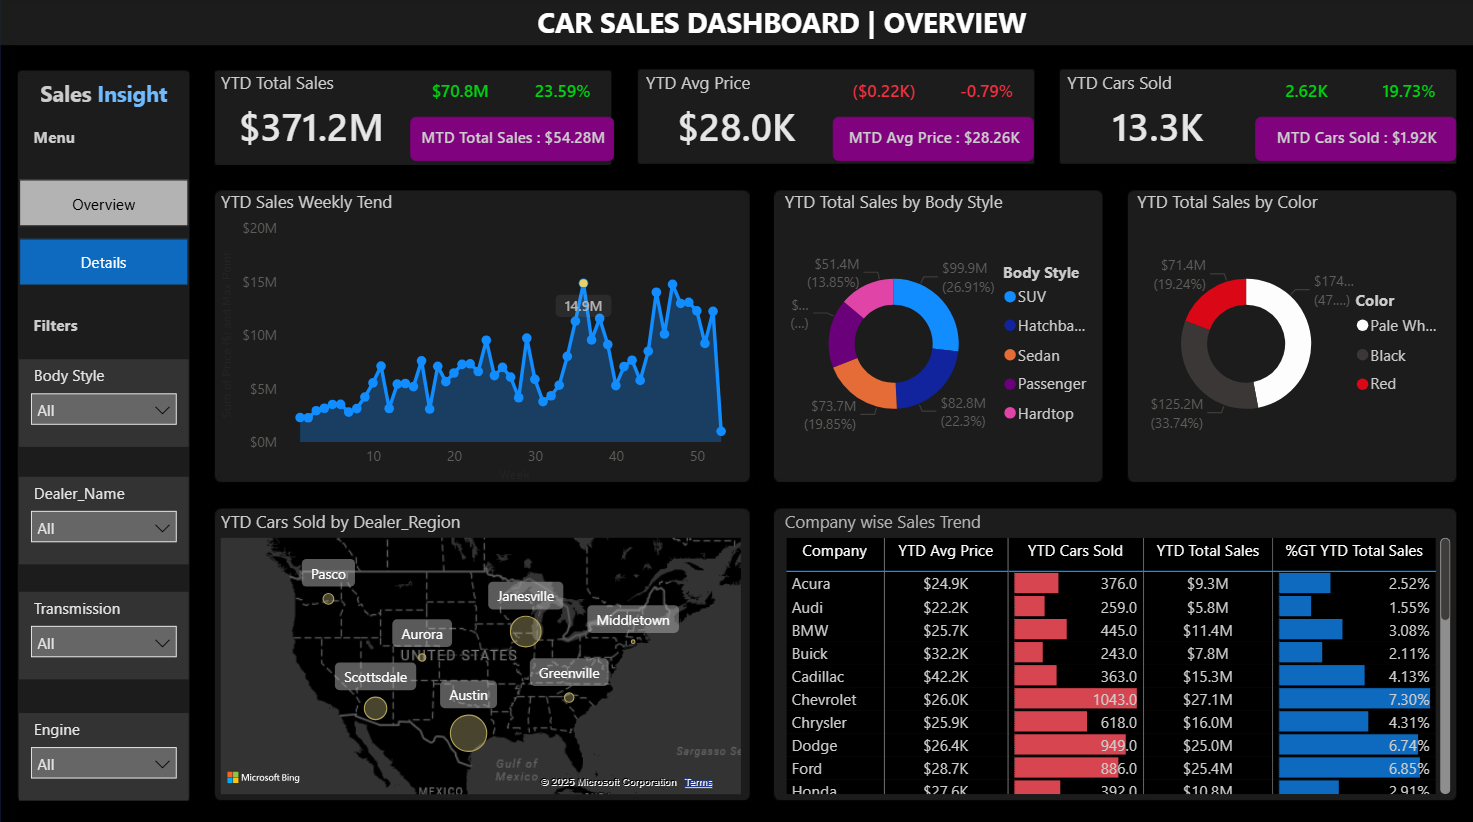

The dashboard page shown, as its layout file describes it:
{"tool":"powerbi","page":{"name":"Overview ","canvas":[1280,720],"ordinal":0},"visuals":[{"type":"card","title":"YTD Total Sales","fields":{"Values":["car_data.YTD Total Sales"]},"box":[188,63.1,167.4,78.2],"z":0},{"type":"card","fields":{"Values":["car_data.Sales Difference"]},"box":[355.4,63.1,89.2,39.8],"z":1000},{"type":"card","fields":{"Values":["car_data.YoY Sales Growth"]},"box":[444.6,63.1,89,39.8],"z":2000},{"type":"card","fields":{"Values":["car_data.MTD KPI"]},"box":[356.8,102.9,177,38.4],"z":3000},{"type":"card","title":"YTD Avg Price ","fields":{"Values":["car_data.YTD Avg Price"]},"box":[555.7,63.1,167.4,78.2],"z":4000},{"type":"card","fields":{"Values":["car_data.Avg Price Diff"]},"box":[723.2,63.1,89.2,39.8],"z":5000},{"type":"card","fields":{"Values":["car_data.YoY Avg Price Growth"]},"box":[812.4,63.1,89.2,39.8],"z":6000},{"type":"card","fields":{"Values":["car_data.MTD Avg Price KPI"]},"box":[723.2,102.9,174,38.4],"z":7000},{"type":"card","title":"YTD Cars Sold","fields":{"Values":["car_data.YTD Cars Sold"]},"box":[922.1,63.1,167.4,78.2],"z":8000},{"type":"card","fields":{"Values":["car_data.Cars Sold Diff"]},"box":[1089.5,63.1,89.2,39.8],"z":9000},{"type":"card","fields":{"Values":["car_data.YoY Car Sold Growth"]},"box":[1178.7,63.1,89.2,39.8],"z":10000},{"type":"card","fields":{"Values":["car_data.MTD Cars Sold KPI"]},"box":[1089.5,102.9,174.3,38.4],"z":11000},{"type":"areaChart","title":"YTD Sales Weekly Tend ","fields":{"Category":["Calendar Table.Week"],"Y":["Sum(car_data.Price ($))","car_data.Max Point"]},"box":[188,166,461.1,259.3],"z":12000},{"type":"donutChart","fields":{"Category":["car_data.Body Style"],"Y":["car_data.YTD Total Sales"]},"box":[676.5,166,281.3,248.4],"z":13000},{"type":"donutChart","fields":{"Y":["car_data.YTD Total Sales"],"Category":["car_data.Color"]},"box":[982.5,166,281.3,248.4],"z":14000},{"type":"map","fields":{"Category":["car_data.Dealer_Region"],"Size":["car_data.YTD Cars Sold"]},"box":[188,443.2,461.1,252.5],"z":15000},{"type":"tableEx","title":"Company wise Sales Trend","fields":{"Values":["car_data.Company","car_data.YTD Avg Price","car_data.YTD Cars Sold","car_data.YTD Total Sales1","car_data.YTD Total Sales"]},"box":[676.6,443.8,587.3,252.1],"z":16000},{"type":"textbox","box":[445,0,469.1,54.3],"z":17000},{"type":"slicer","fields":{"Values":["car_data.Body Style"]},"box":[16.9,313.6,147.1,76],"z":18000},{"type":"slicer","fields":{"Values":["car_data.Dealer_Name"]},"box":[16.9,414.9,147.1,76],"z":19000},{"type":"slicer","fields":{"Values":["car_data.Transmission"]},"box":[16.9,515,147.1,76],"z":20000},{"type":"slicer","fields":{"Values":["car_data.Engine"]},"box":[16.9,619.9,147.1,76],"z":21000},{"type":"textbox","box":[25.3,270.2,65.1,33.8],"z":22000},{"type":"textbox","box":[25.3,106.1,65.1,35],"z":23000},{"type":"textbox","box":[16.9,65.1,147.1,41],"z":24000},{"type":"pageNavigator","box":[16.9,156.8,147.1,92.9],"z":25000}]}

Visuals, with their boxes on the page's 1280x720 design canvas (x1, y1, x2, y2). These are canvas units, not pixel positions in the 1473x822 screenshot, which may show the page scaled, cropped or inside an application window:
"YTD Total Sales" card: BBox(188, 63, 355, 141)
card - car_data.Sales Difference: BBox(355, 63, 445, 103)
card - car_data.YoY Sales Growth: BBox(445, 63, 534, 103)
card - car_data.MTD KPI: BBox(357, 103, 534, 141)
"YTD Avg Price " card: BBox(556, 63, 723, 141)
card - car_data.Avg Price Diff: BBox(723, 63, 812, 103)
card - car_data.YoY Avg Price Growth: BBox(812, 63, 902, 103)
card - car_data.MTD Avg Price KPI: BBox(723, 103, 897, 141)
"YTD Cars Sold" card: BBox(922, 63, 1090, 141)
card - car_data.Cars Sold Diff: BBox(1090, 63, 1179, 103)
card - car_data.YoY Car Sold Growth: BBox(1179, 63, 1268, 103)
card - car_data.MTD Cars Sold KPI: BBox(1090, 103, 1264, 141)
"YTD Sales Weekly Tend " areaChart: BBox(188, 166, 649, 425)
donutChart - car_data.Body Style x car_data.YTD Total Sales: BBox(676, 166, 958, 414)
donutChart - car_data.YTD Total Sales x car_data.Color: BBox(982, 166, 1264, 414)
map - car_data.Dealer_Region x car_data.YTD Cars Sold: BBox(188, 443, 649, 696)
"Company wise Sales Trend" tableEx: BBox(677, 444, 1264, 696)
textbox: BBox(445, 0, 914, 54)
slicer - car_data.Body Style: BBox(17, 314, 164, 390)
slicer - car_data.Dealer_Name: BBox(17, 415, 164, 491)
slicer - car_data.Transmission: BBox(17, 515, 164, 591)
slicer - car_data.Engine: BBox(17, 620, 164, 696)
textbox: BBox(25, 270, 90, 304)
textbox: BBox(25, 106, 90, 141)
textbox: BBox(17, 65, 164, 106)
pageNavigator: BBox(17, 157, 164, 250)
